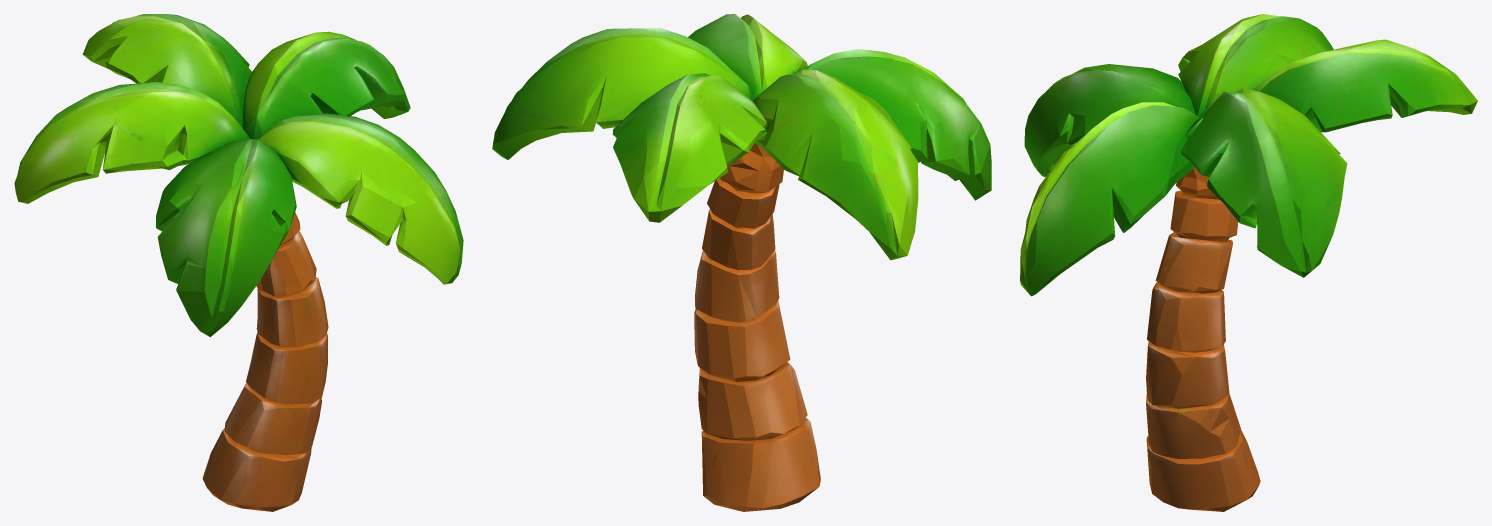
File: palm.glb
The picture shows the model from 3 angles, left to right: view 1: azimuth 30°, elevation 25°; view 2: azimuth 150°, elevation 25°; view 3: azimuth 270°, elevation 25°; orthographic projection. The views are drawn at different scales.
Visible parts, largest first — view 1: model; view 2: model; view 3: model.
Part boxes in pixels (box(x1,y1,x2,y2)): model: box(14, 14, 463, 511); model: box(492, 14, 991, 511); model: box(1020, 14, 1477, 511).
Bounding box in the file's own units: 1.78 × 1.9 × 1.78.
Materials: 1 (1 with a texture image).
